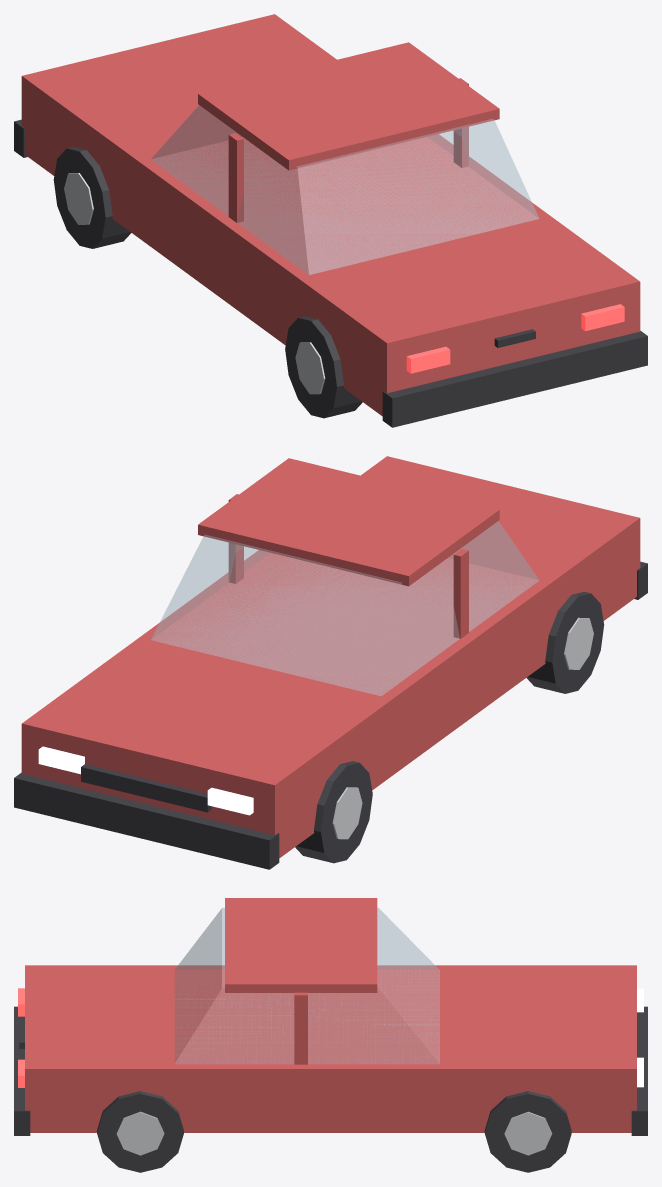
Rendered from car_sedan_red.glb.
The picture shows the model from 3 angles, top to bottom: view 1: azimuth 30°, elevation 25°; view 2: azimuth 150°, elevation 25°; view 3: azimuth 270°, elevation 25°; orthographic projection. The views are drawn at different scales.
Parts seen in each view (by area): view 1: body, wheel_fl, wheel_rl; view 2: body, wheel_rl, wheel_fl; view 3: body, wheel_fr, wheel_rr.
Part boxes in pixels (box(x1,y1,x2,y2)): body: box(14, 14, 647, 427); wheel_fl: box(53, 146, 131, 248); wheel_rl: box(285, 316, 362, 418); body: box(14, 456, 647, 869); wheel_rl: box(526, 591, 604, 693); wheel_fl: box(295, 761, 372, 863); body: box(14, 898, 647, 1135); wheel_fr: box(484, 1091, 571, 1172); wheel_rr: box(97, 1091, 183, 1172).
Size of the model in its own units: 1.92 by 1.5 by 4.66.
